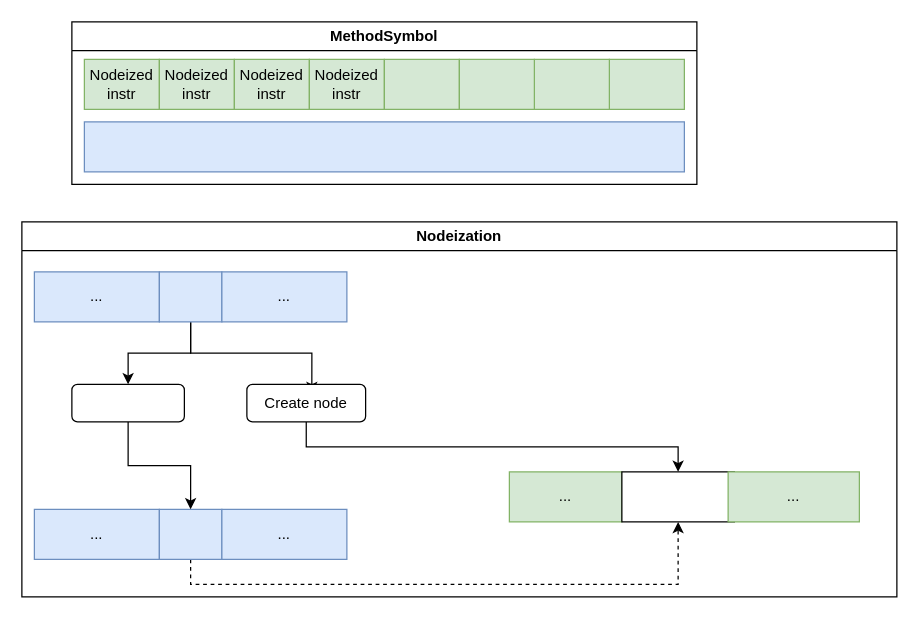
This 919x619 diagram has some shape labels left out. Here are the shapes that lost their labels. From the top down, the centre of each, then its label:
At pixel 383 146: "CIL code".
At pixel 190 296: "CALL".
At pixel 127 402: "Patch cil code".
At pixel 677 496: "Nodeized call".
At pixel 190 533: "Node[4]".
